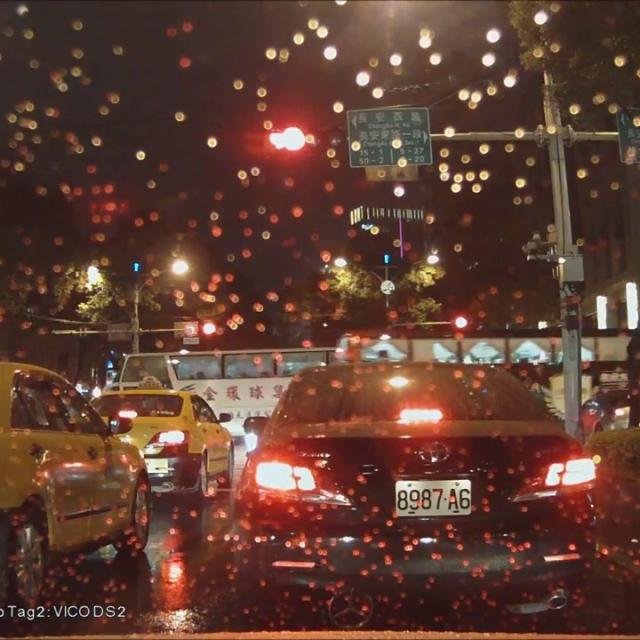Car: (225, 357, 602, 630), (0, 358, 156, 608), (85, 385, 239, 505), (578, 385, 634, 440)
